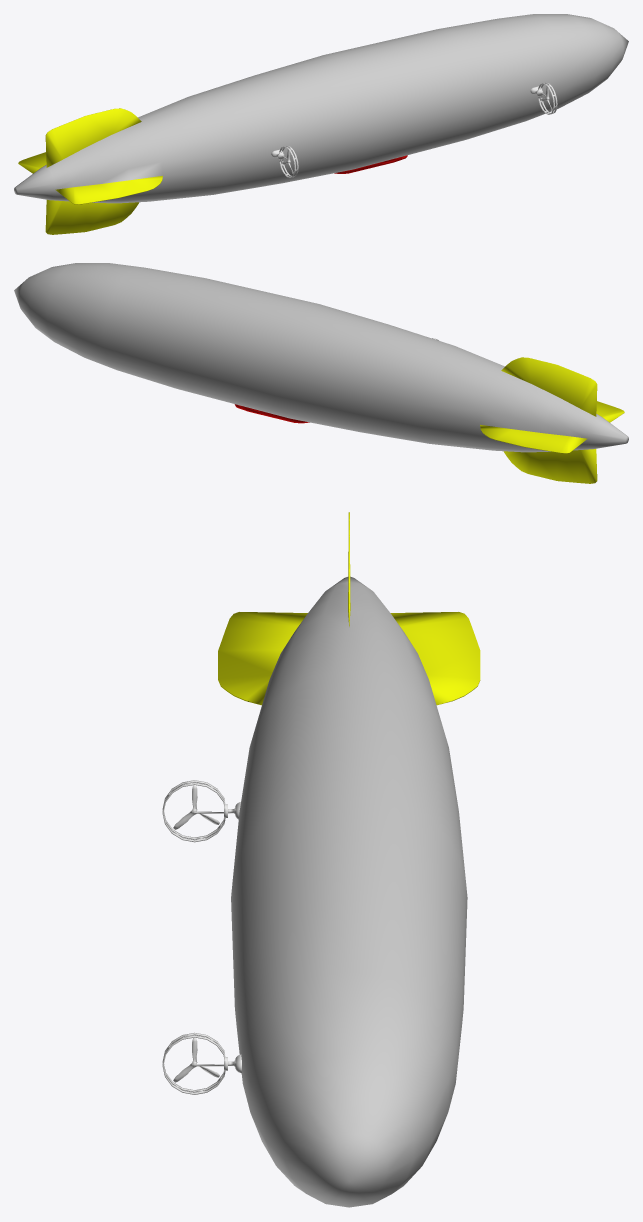
File: Airship.FBX
3 renders of one model, top to bottom at view 1: azimuth 30°, elevation 25°; view 2: azimuth 150°, elevation 25°; view 3: azimuth 270°, elevation 25°, orthographic. The views are drawn at different scales.
Visible parts, largest first — view 1: Air_tank, Framework2, Framework1; view 2: Air_tank; view 3: Air_tank, Framework1, Framework2.
Boxes of the visible parts, bbox=[...] form: Air_tank: bbox=[14, 14, 628, 234]; Framework2: bbox=[271, 145, 298, 177]; Framework1: bbox=[530, 82, 557, 114]; Air_tank: bbox=[14, 263, 628, 483]; Air_tank: bbox=[218, 512, 480, 1207]; Framework1: bbox=[162, 1032, 241, 1094]; Framework2: bbox=[162, 780, 240, 842].
Bounding box in the file's own units: 623 × 117 × 140.
